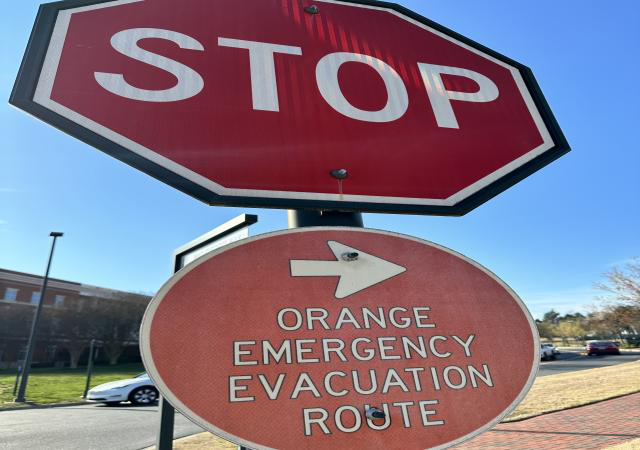not_stop: (140, 226, 543, 450)
stop: (9, 1, 574, 219)
